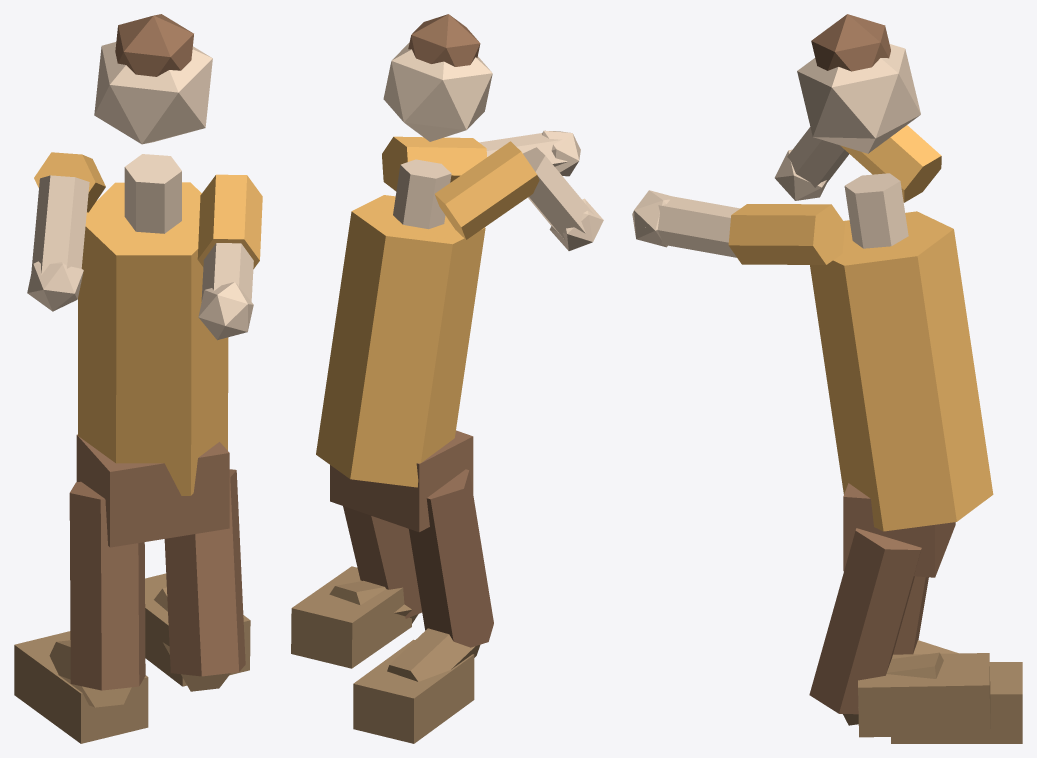
The model's file is pose_attack_1_16.glb.
3 renders of one model, left to right at view 1: azimuth 30°, elevation 25°; view 2: azimuth 150°, elevation 25°; view 3: azimuth 270°, elevation 25°, orthographic. The views are drawn at different scales.
Visible parts, largest first — view 1: pose; view 2: pose; view 3: pose.
Part boxes in pixels (box(x1,y1,x2,y2)): pose: box(14, 14, 262, 743); pose: box(291, 14, 603, 743); pose: box(632, 14, 1022, 743).
Size of the model in its own units: 0.5098 by 1.45 by 0.7122.
